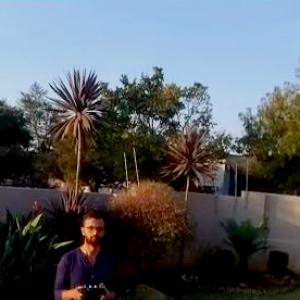follow: (49, 204, 124, 299)
